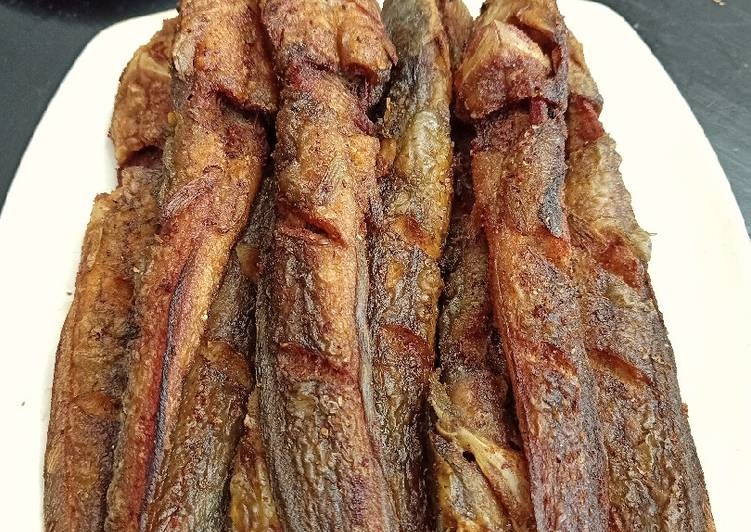pecel_lele: (466, 4, 608, 532), (261, 6, 396, 532)
